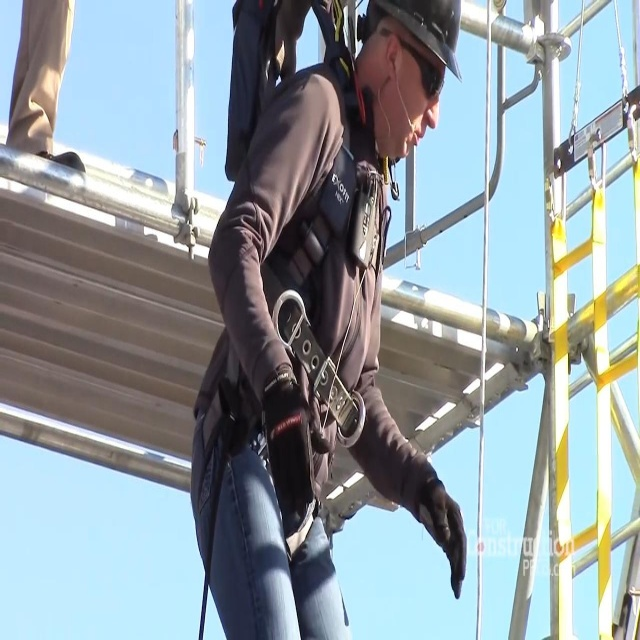Arnes_seguridad: (164, 0, 382, 573)
